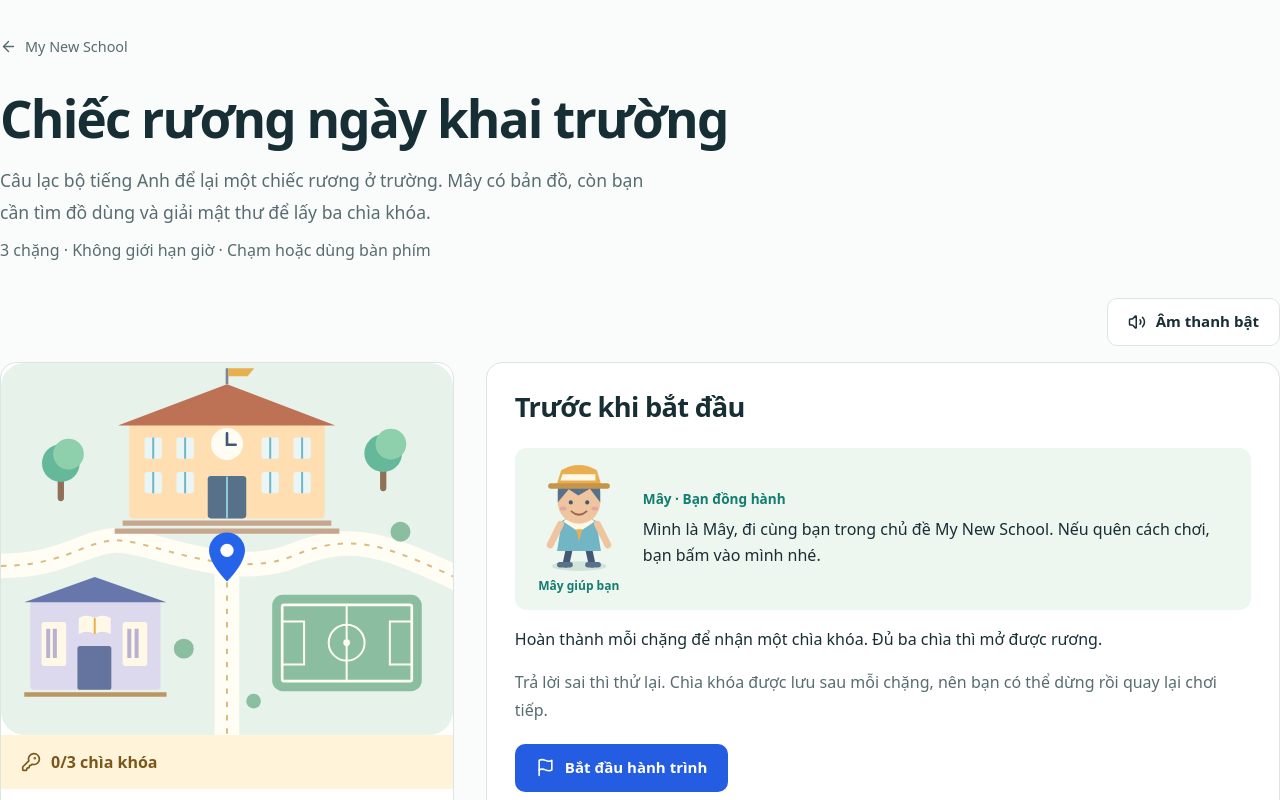
Test: pronunciation button › keeps the third quest word open when leaving a spoken second word
Later steps or results of the test are not shown.
Click the button "Bắt đầu hành trình". click: (622, 768)
box: [515, 744, 728, 792]
(page scrolled)
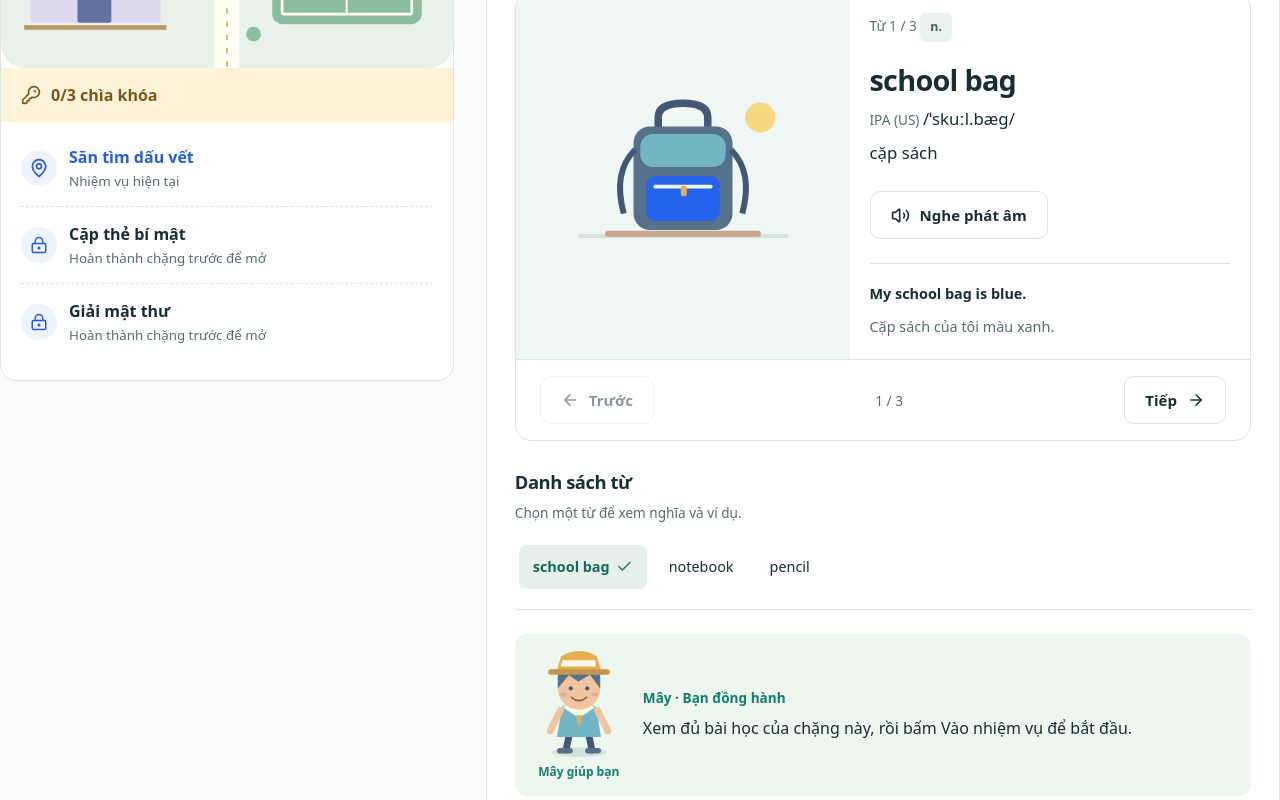
Click the button "Tiếp". click: (1175, 400)
box: [1124, 376, 1226, 424]
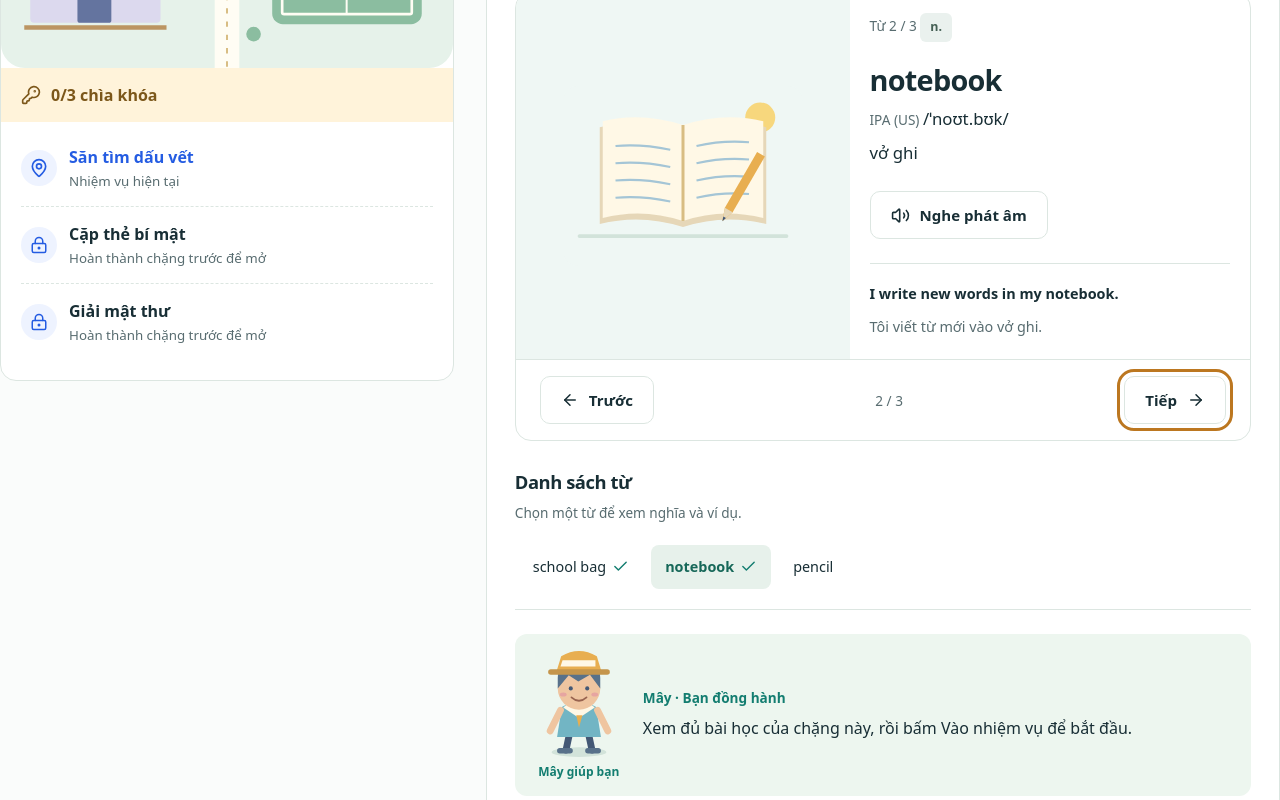
Click the button with aria-label "Nghe phát âm notebook". click: (959, 215)
box: [870, 191, 1048, 239]
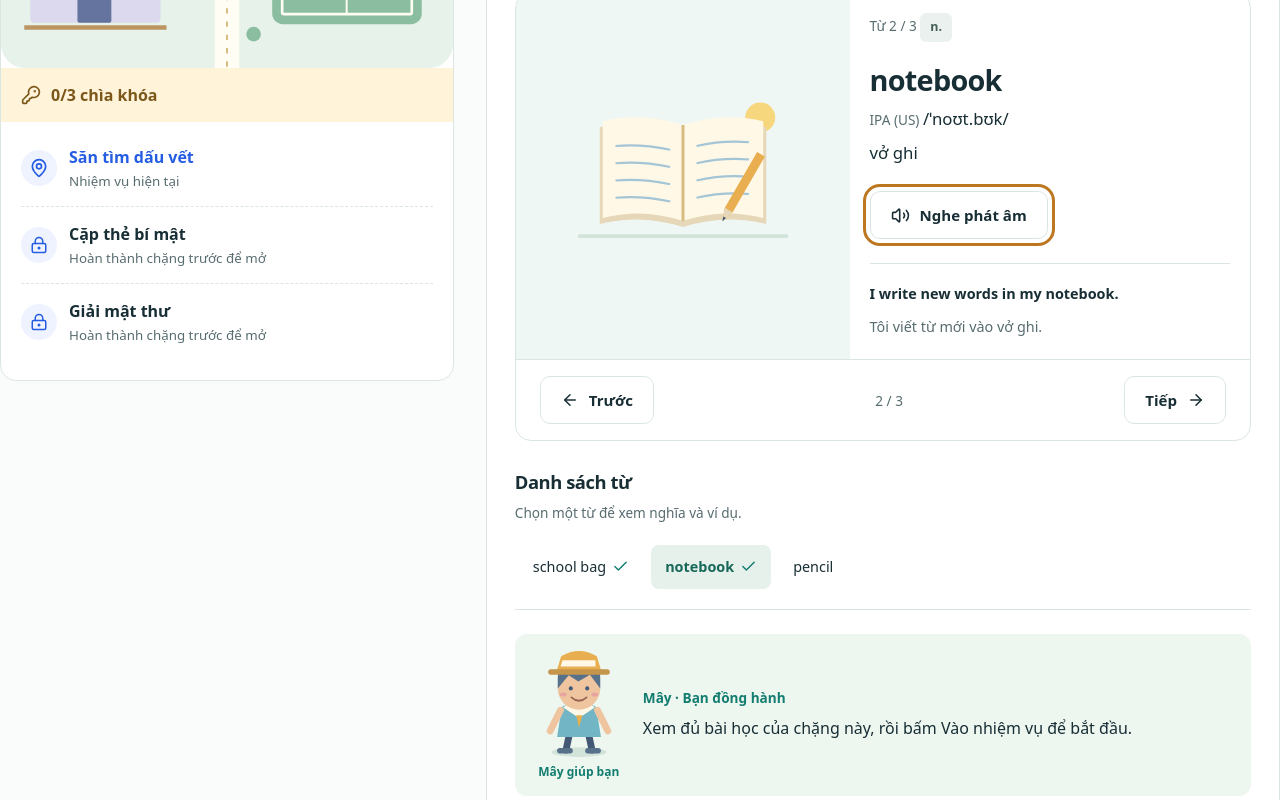
expect the heading "notebook" is shown: met, box [870, 60, 1002, 99]
Click the button "Tiếp". click: (1175, 400)
box: [1124, 376, 1226, 424]
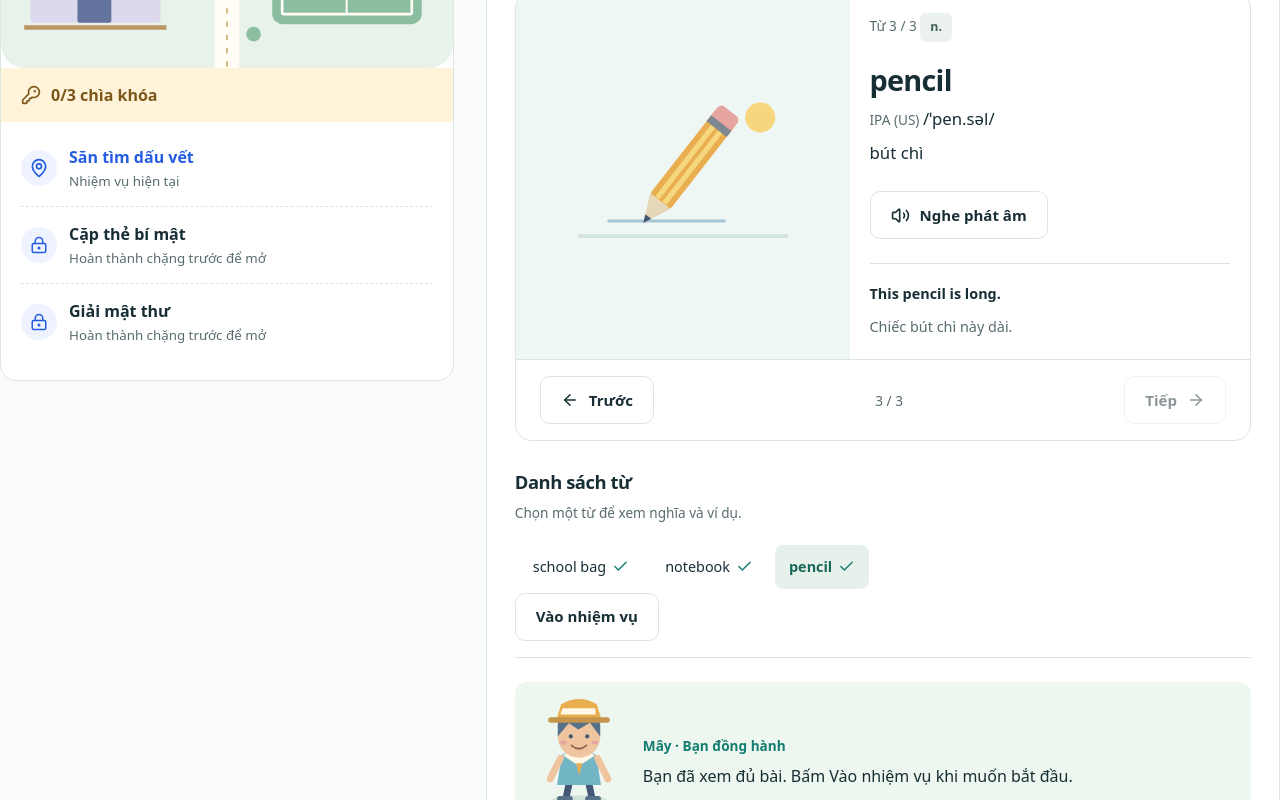
expect the heading "pencil" is shown: met, box [870, 60, 952, 99]
Click the button with aria-label "Nghe phát âm pencil". click: (959, 215)
box: [870, 191, 1048, 239]
(page scrolled)
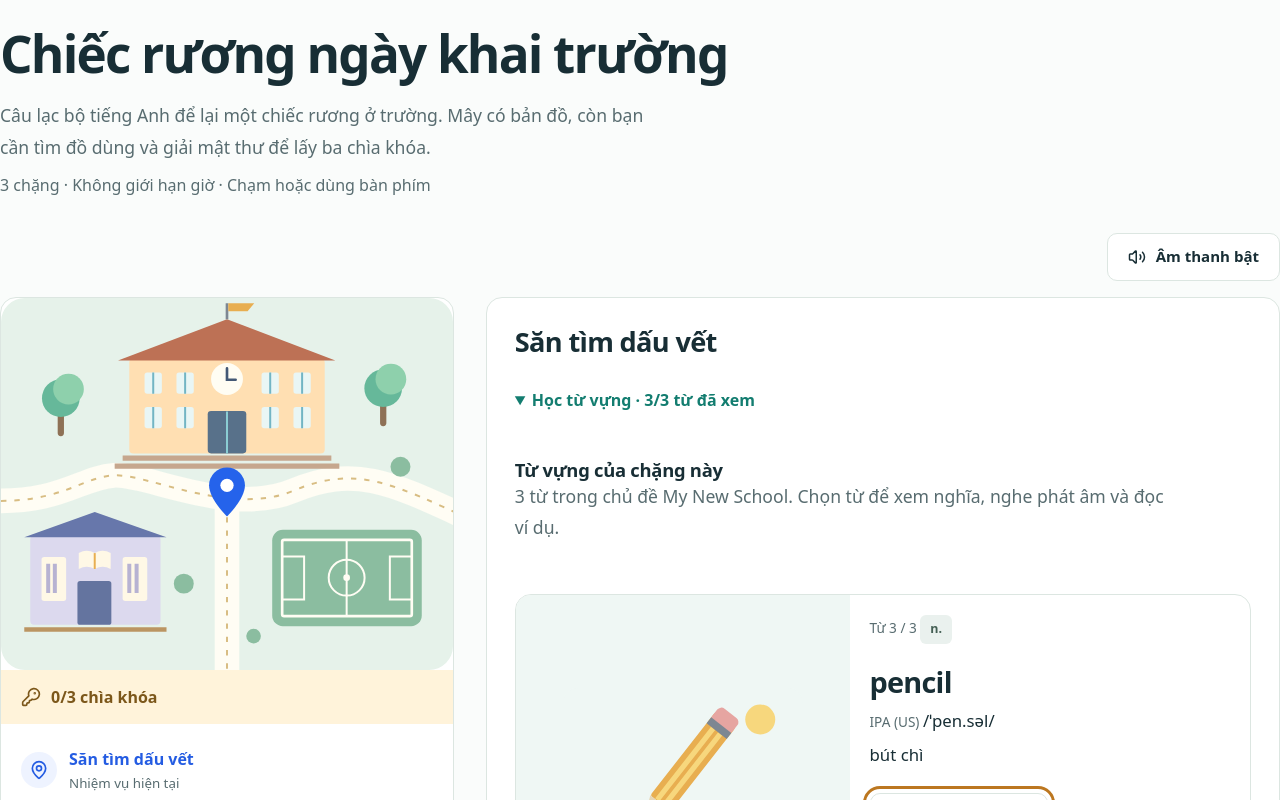
expect the heading "pencil" is shown: met, box [870, 662, 952, 701]
